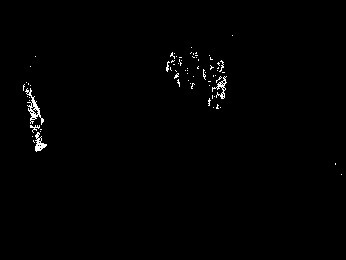person: (21, 81, 49, 153), (202, 53, 227, 111), (164, 49, 184, 89)
